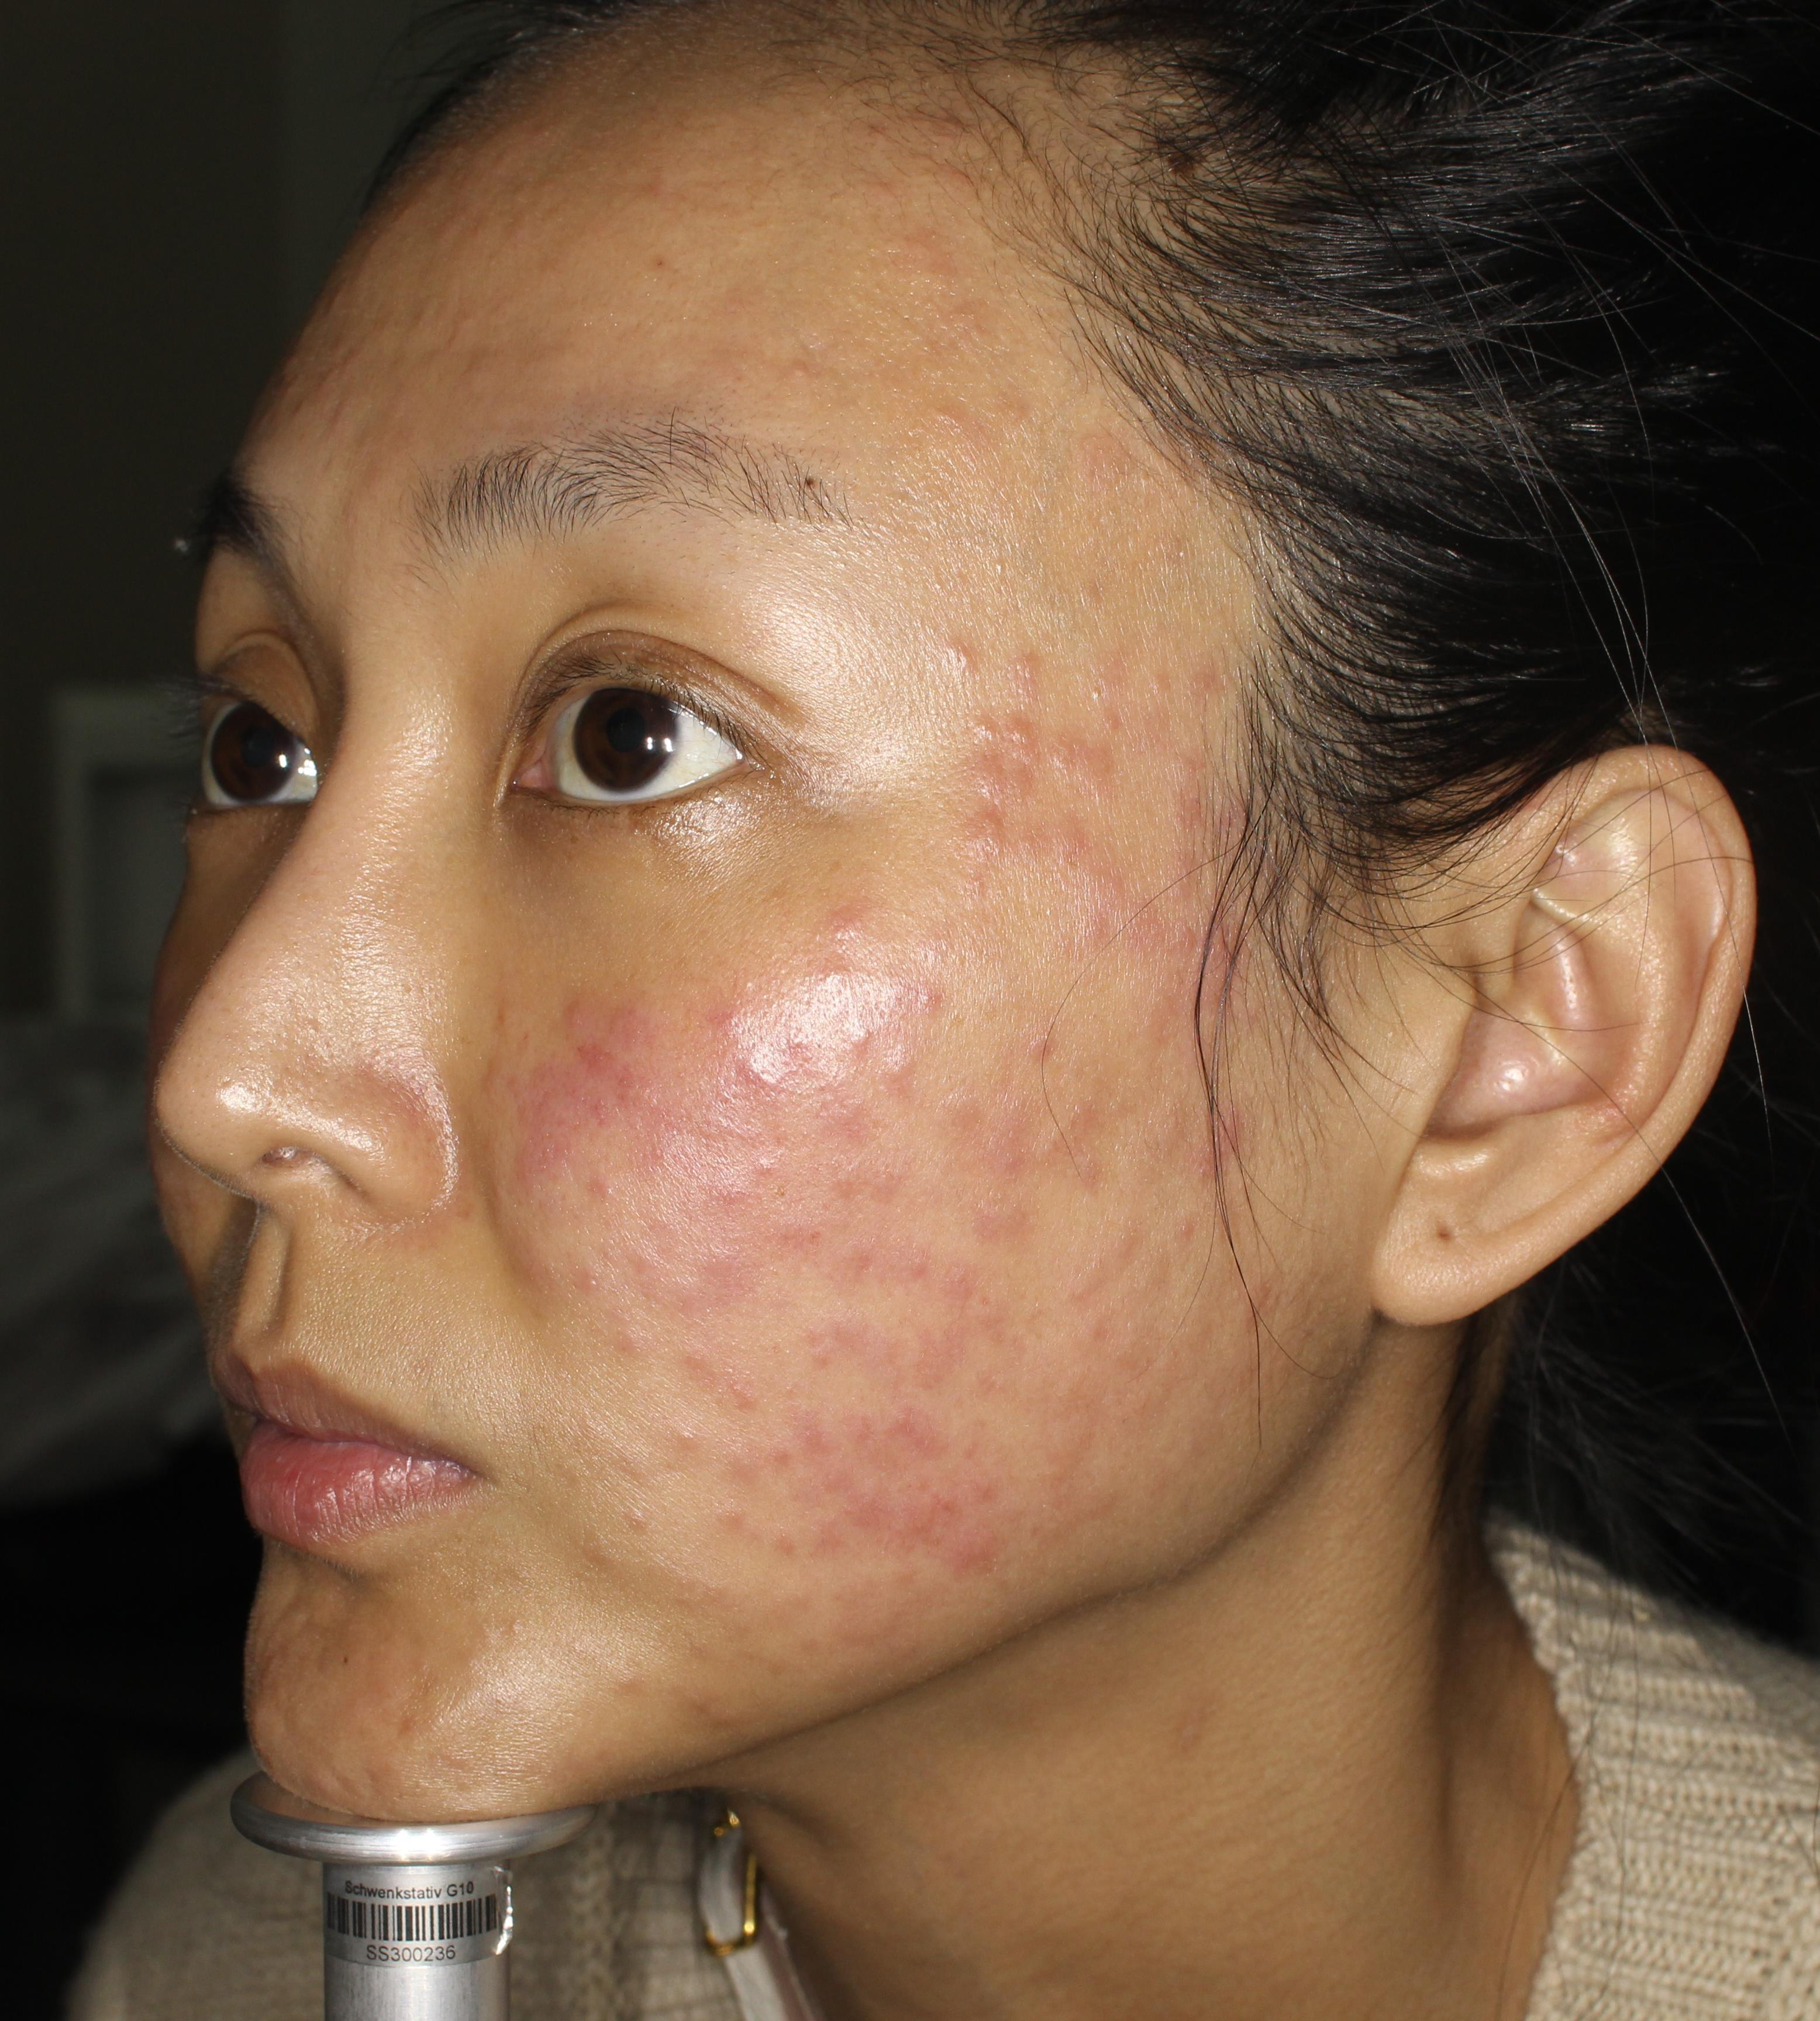fore: (589, 976, 687, 1083), (727, 1024, 820, 1127), (678, 1326, 759, 1442), (785, 1500, 857, 1621), (880, 1459, 961, 1557), (889, 1356, 964, 1456), (731, 1145, 812, 1236), (826, 1150, 915, 1231), (762, 1384, 840, 1477), (603, 1213, 690, 1294), (1051, 1110, 1123, 1208), (991, 694, 1063, 787), (964, 1118, 1031, 1217), (817, 1378, 892, 1464), (552, 980, 624, 1069), (857, 1043, 933, 1127), (1145, 1190, 1228, 1266), (1051, 730, 1130, 808), (1182, 1099, 1251, 1187), (938, 1531, 1001, 1626), (1152, 752, 1219, 841), (794, 1319, 887, 1380), (950, 729, 1019, 809), (567, 1064, 638, 1141), (1061, 1234, 1124, 1313), (1224, 1266, 1291, 1338), (1181, 650, 1249, 718), (574, 1154, 645, 1220), (692, 985, 764, 1050), (827, 1096, 894, 1164), (1075, 910, 1144, 975), (506, 1136, 580, 1196), (601, 1308, 668, 1373), (933, 1087, 1001, 1150), (1207, 913, 1258, 997), (1094, 1206, 1154, 1277), (984, 1078, 1054, 1138), (1017, 1015, 1082, 1078), (566, 1252, 627, 1317), (942, 1271, 991, 1352), (892, 1217, 950, 1285), (806, 1452, 875, 1510), (680, 1686, 752, 1740), (569, 1528, 636, 1586), (1005, 650, 1072, 708), (1154, 904, 1212, 971), (706, 1505, 776, 1559), (817, 1240, 870, 1312), (940, 627, 998, 692), (648, 1413, 719, 1464), (1130, 664, 1189, 723), (661, 1150, 722, 1208), (970, 792, 1014, 873), (682, 1262, 750, 1312), (1054, 806, 1100, 878), (961, 1466, 1022, 1519), (915, 653, 970, 711), (618, 1501, 676, 1554), (820, 994, 870, 1055), (726, 1435, 775, 1492), (1094, 701, 1152, 750), (812, 913, 861, 967), (898, 976, 950, 1024), (597, 1656, 650, 1700), (1100, 864, 1138, 922)
